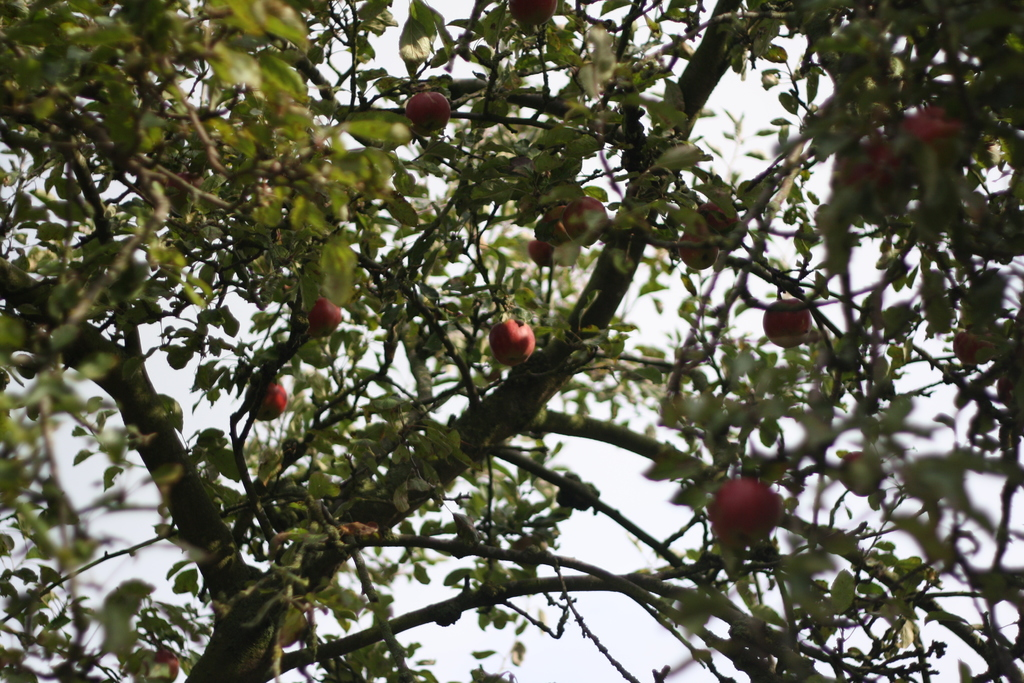Apple: (714, 472, 787, 552), (832, 139, 903, 199), (903, 106, 968, 148), (765, 300, 810, 353), (490, 322, 535, 370), (565, 198, 610, 246), (673, 223, 716, 272), (840, 451, 884, 497), (401, 93, 449, 135), (244, 382, 290, 422), (161, 174, 203, 217), (305, 296, 344, 341), (695, 201, 740, 236), (951, 332, 994, 365), (509, 0, 558, 28), (140, 650, 181, 682), (540, 207, 567, 249), (528, 238, 555, 270)
